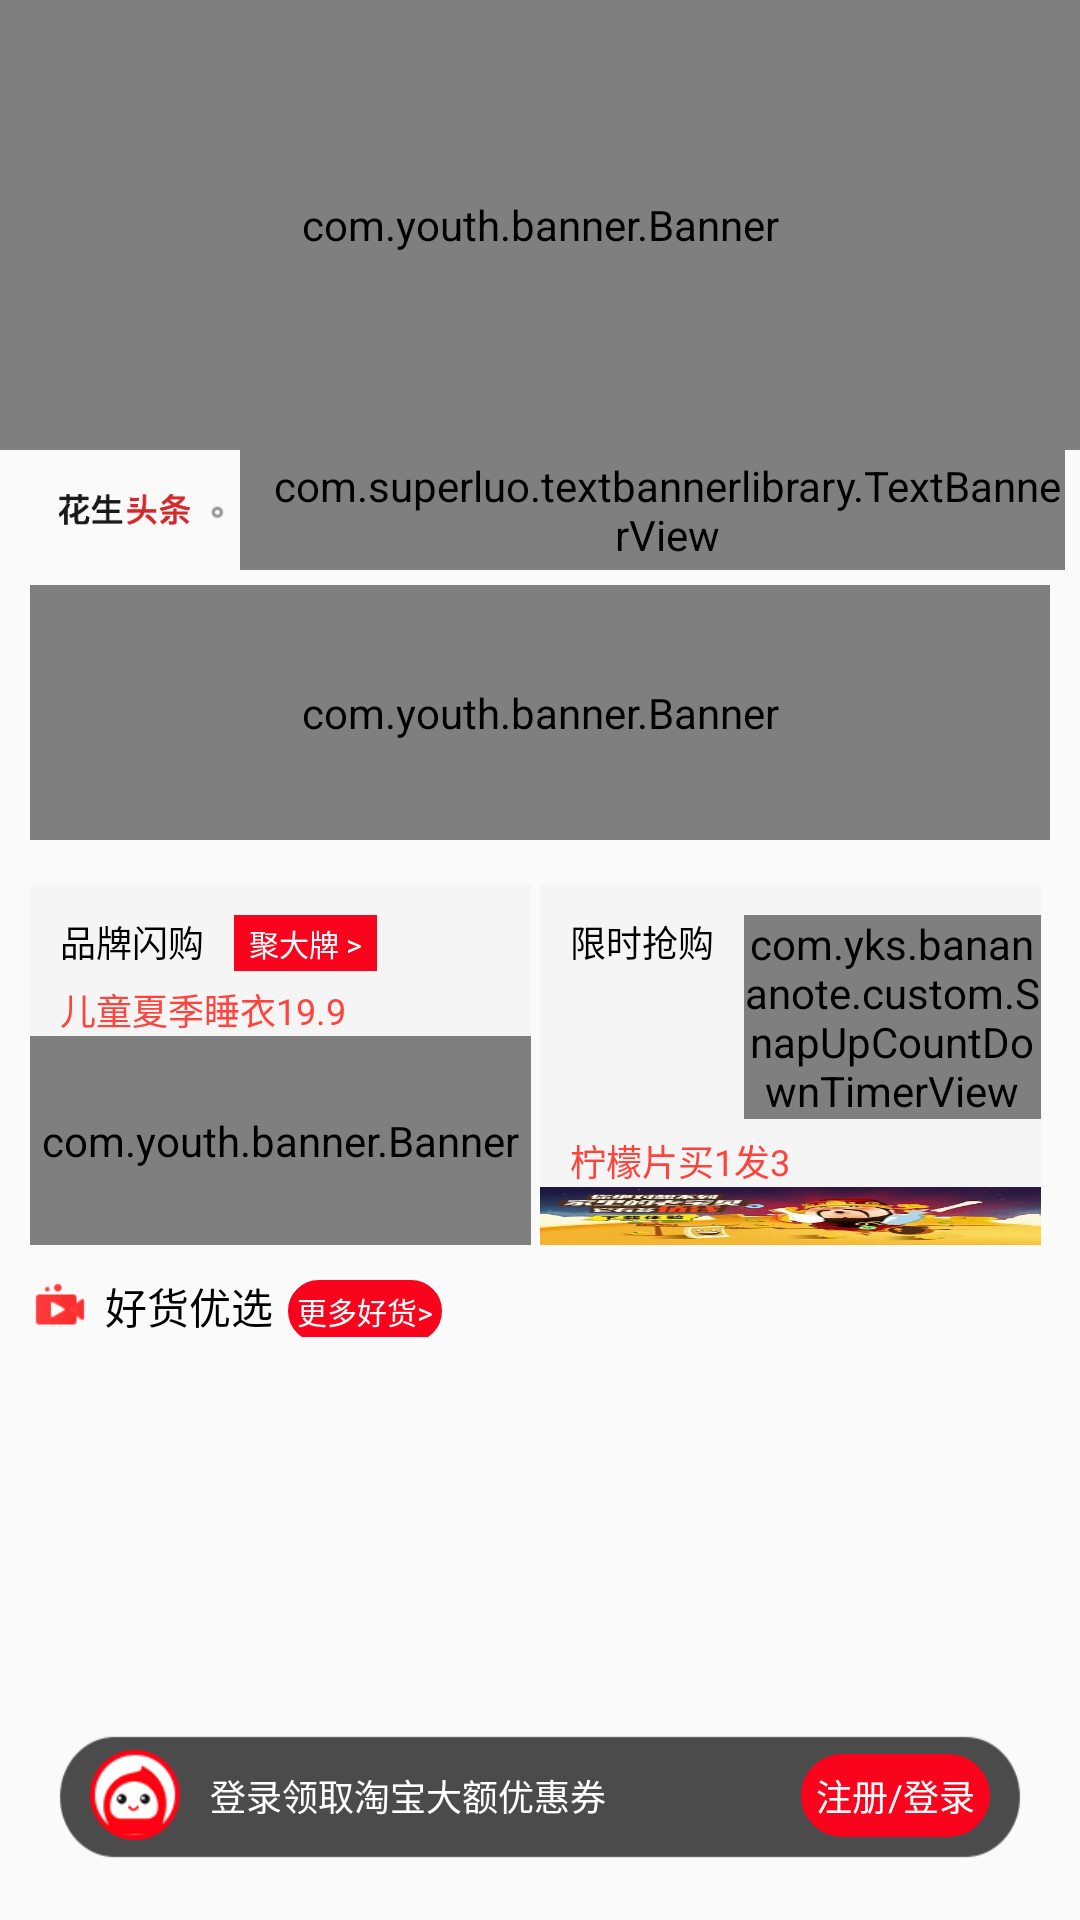

Icons on this 1080px x 1920px Android screen, each with its box as (x1,y1,x2,y2):
home live: (35,1283,85,1325)
